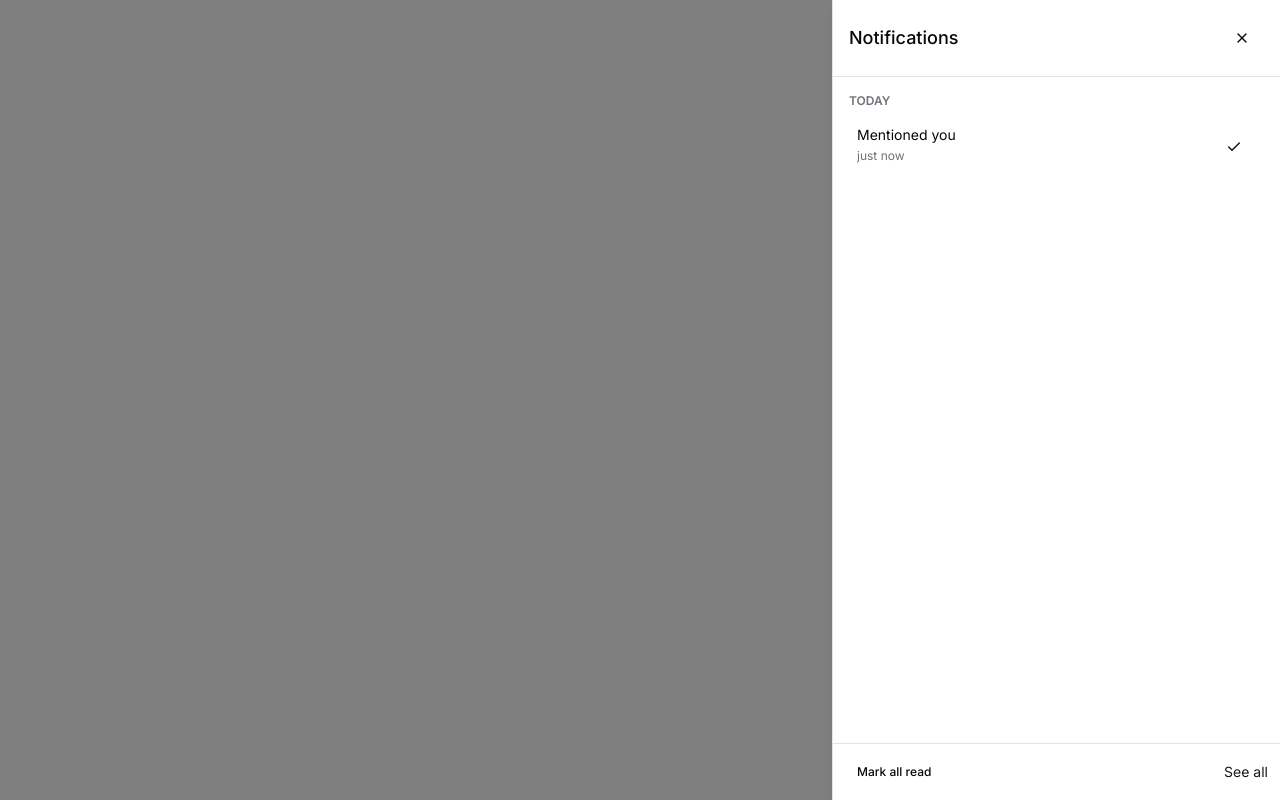
NotificationDrawer — real-time refresh on mark-read › re-fetches the feed (SWR mutate) after marking a notification read
Note: Initial feed load renders the row + its mark-read button.
Click the button named "Mark as read" at coordinates (1234, 147), box left=1212, top=125, right=1256, bottom=169
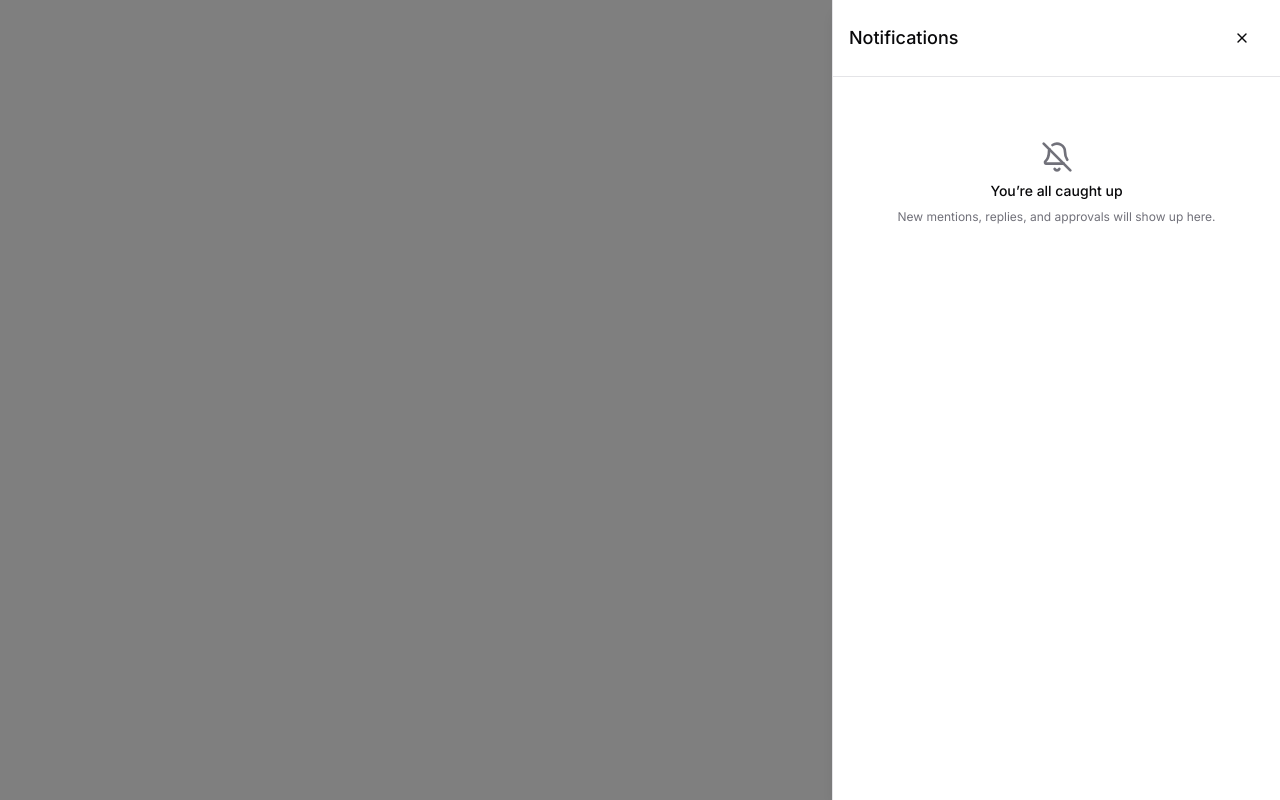
expect the text "You’re all caught up" is shown: met, box left=990, top=181, right=1123, bottom=201
